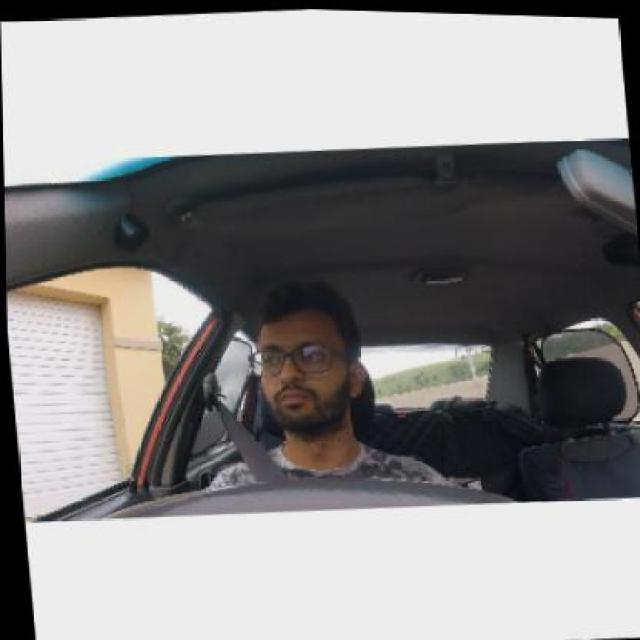person: (249, 278, 371, 438)
